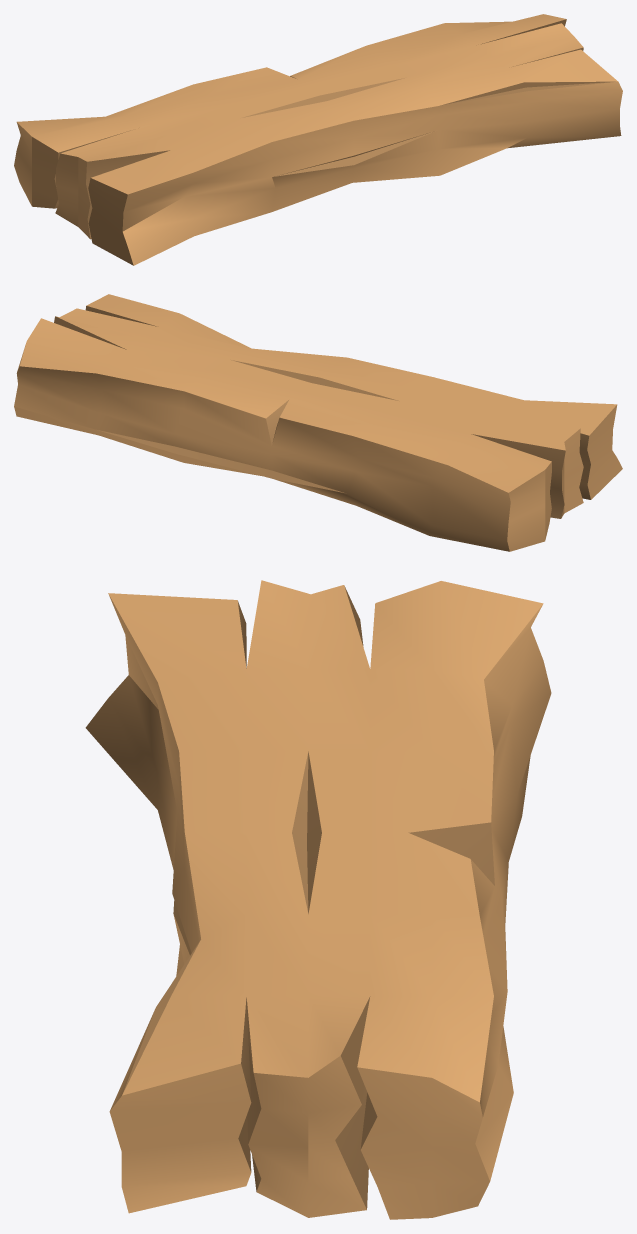
Rendered from Wood.fbx.
3 renders of one model, top to bottom at view 1: azimuth 30°, elevation 25°; view 2: azimuth 150°, elevation 25°; view 3: azimuth 270°, elevation 25°, orthographic. The views are drawn at different scales.
Parts seen in each view (by area): view 1: wood; view 2: wood; view 3: wood.
Part boxes in pixels (x1,y1,x2,y2): wood: (14, 14, 622, 265); wood: (14, 294, 622, 551); wood: (85, 580, 551, 1219).
Size of the model in its own units: 3.07 by 0.4647 by 1.21.
